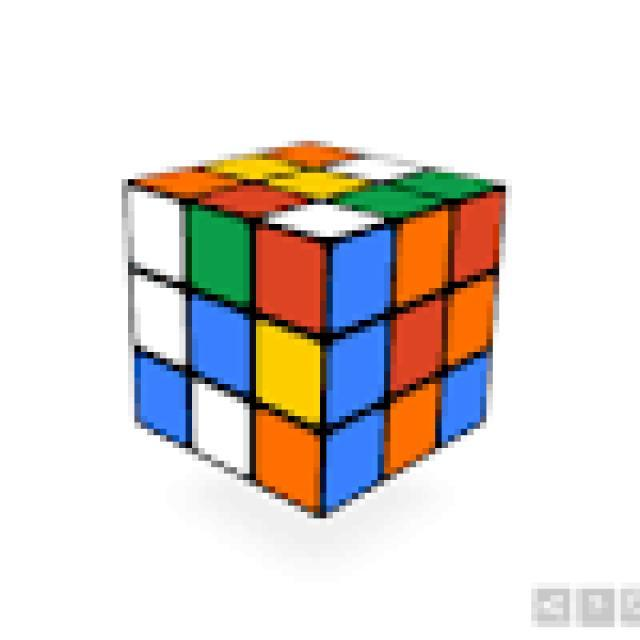Rub: (121, 141, 506, 519)
